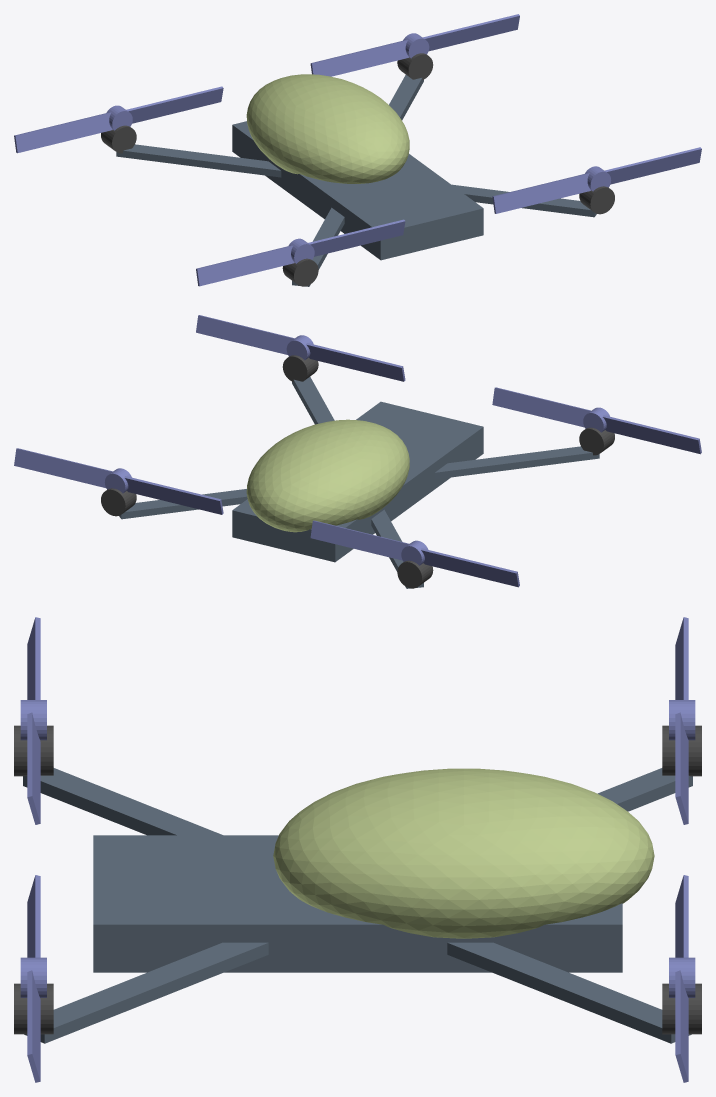
The model's file is BetaFPV 75x.glb.
3 views of the same model, one above another, from view 1: azimuth 30°, elevation 25°; view 2: azimuth 150°, elevation 25°; view 3: azimuth 270°, elevation 25° (orthographic). The views are drawn at different scales.
Parts seen in each view (by area): view 1: canopy, frame_body, prop_3, prop_0, prop_2, prop_1, arm_3, arm_0, arm_1, arm_2, motor_2, motor_0 (+2 smaller); view 2: canopy, frame_body, prop_1, prop_0, prop_2, prop_3, arm_2, arm_1, arm_0, motor_3, motor_1, motor_0 (+2 smaller); view 3: canopy, frame_body, arm_0, arm_1, arm_2, prop_0, prop_2, prop_1, prop_3, arm_3, motor_0, motor_1 (+2 smaller).
Boxes of the visible parts, x1,y1,x2,y2 form: canopy: [246, 74, 409, 183]; frame_body: [232, 121, 483, 260]; prop_3: [14, 86, 223, 153]; prop_0: [492, 147, 701, 213]; prop_2: [196, 219, 405, 286]; prop_1: [310, 14, 519, 76]; arm_3: [116, 144, 281, 177]; arm_0: [452, 184, 596, 217]; arm_1: [389, 75, 423, 120]; arm_2: [292, 207, 344, 286]; motor_2: [282, 258, 318, 286]; motor_0: [579, 186, 614, 214]; canopy: [246, 419, 409, 532]; frame_body: [232, 401, 483, 562]; prop_1: [14, 448, 223, 514]; prop_0: [196, 315, 405, 381]; prop_2: [492, 387, 701, 454]; prop_3: [310, 520, 519, 587]; arm_2: [434, 446, 599, 479]; arm_1: [119, 489, 247, 519]; arm_0: [292, 377, 334, 424]; motor_3: [397, 560, 433, 588]; motor_1: [101, 488, 136, 516]; motor_0: [282, 355, 318, 381]; canopy: [273, 768, 654, 938]; frame_body: [93, 835, 622, 972]; arm_0: [24, 942, 268, 1043]; arm_1: [447, 942, 691, 1043]; arm_2: [23, 768, 222, 835]; prop_0: [20, 875, 46, 1082]; prop_2: [20, 617, 46, 824]; prop_1: [669, 875, 695, 1082]; prop_3: [669, 617, 695, 824]; arm_3: [597, 768, 692, 811]; motor_0: [14, 983, 53, 1034]; motor_1: [662, 983, 701, 1034].
Bounding box in the file's own units: 0.3904 × 0.0588 × 0.2598.
